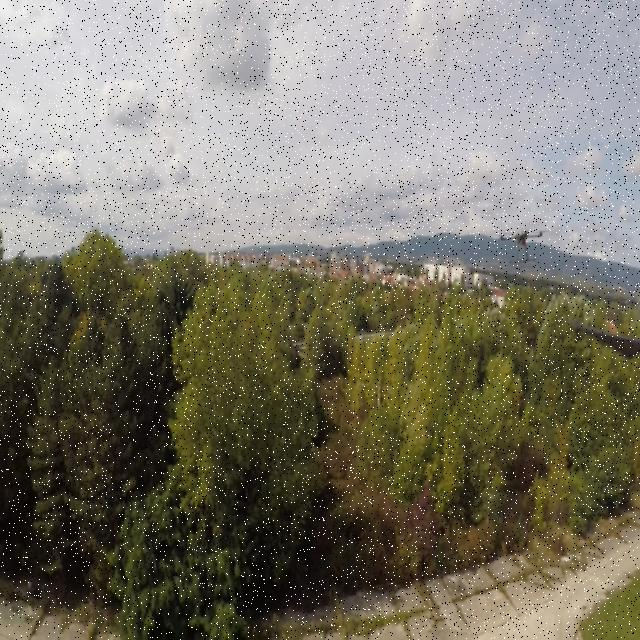UAV: (494, 221, 553, 266)
